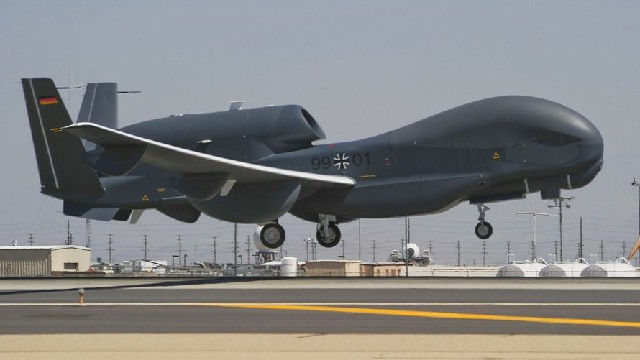maybay_khongnguoilai: (23, 77, 604, 238)
